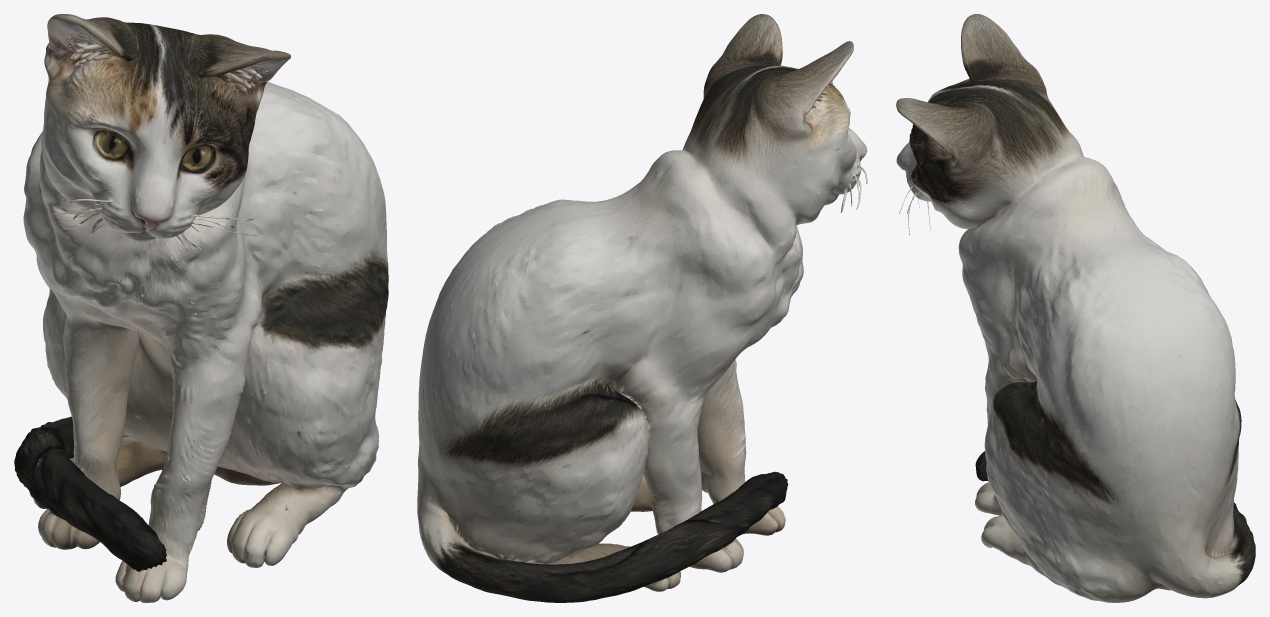
Rendered from cat.glb.
3 views of the same model, side by side, from view 1: azimuth 30°, elevation 25°; view 2: azimuth 150°, elevation 25°; view 3: azimuth 270°, elevation 25° (orthographic). The views are drawn at different scales.
Visible parts, largest first — view 1: tripo_node_96f71a4f; view 2: tripo_node_96f71a4f; view 3: tripo_node_96f71a4f.
Part boxes in pixels (bbox=[...]): tripo_node_96f71a4f: bbox=[14, 14, 388, 602]; tripo_node_96f71a4f: bbox=[417, 14, 867, 602]; tripo_node_96f71a4f: bbox=[896, 14, 1255, 602].
Size of the model in its own units: 0.72 by 1 by 0.7101.
1 material, 1 textured.
